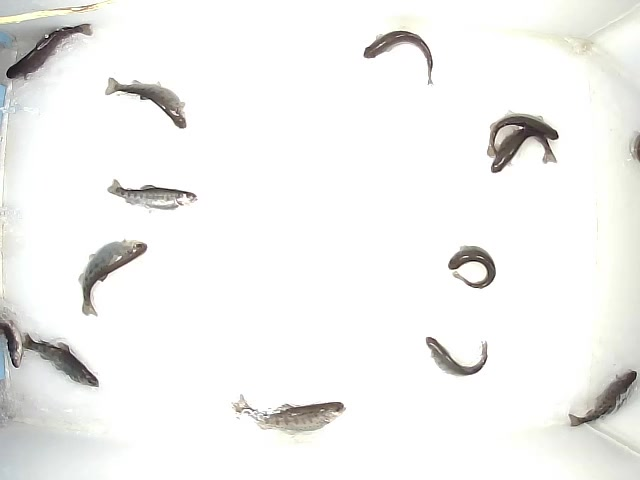fish: (77, 236, 149, 319), (16, 326, 101, 390), (231, 393, 347, 437), (103, 75, 189, 131), (360, 26, 437, 88), (566, 367, 638, 429), (486, 107, 560, 159), (105, 174, 200, 212), (488, 127, 559, 175), (422, 334, 491, 380), (448, 241, 497, 292)
